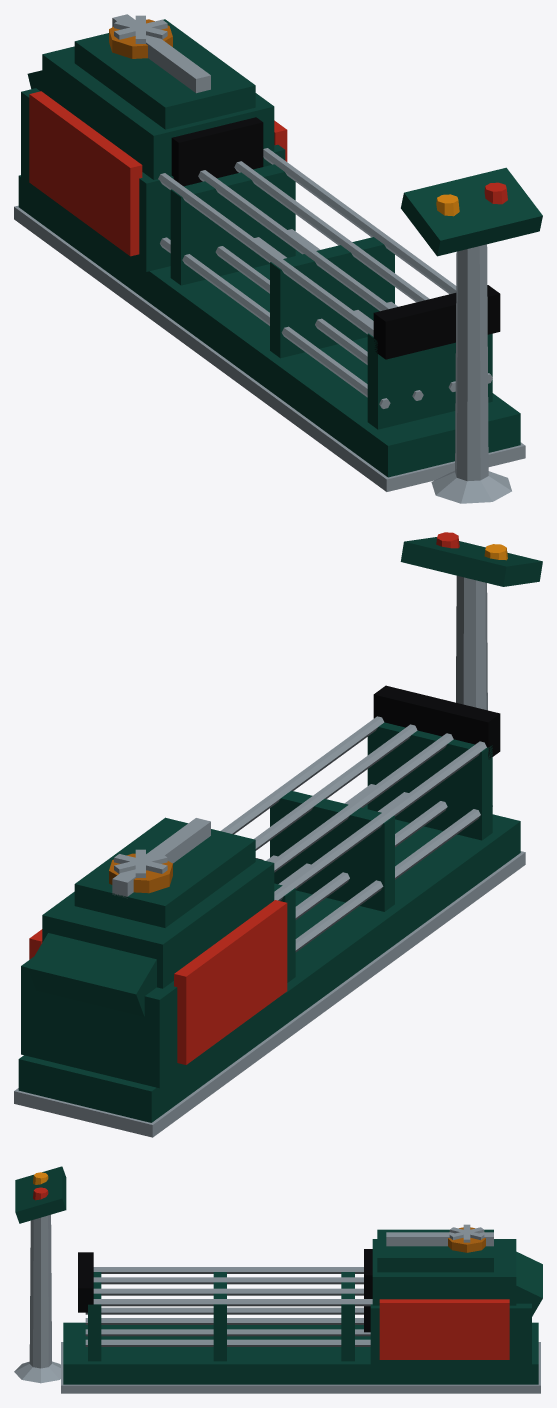
Rendered from cozy_bowling_ball_return.obj.
The picture shows the model from 3 angles, top to bottom: view 1: azimuth 30°, elevation 25°; view 2: azimuth 150°, elevation 25°; view 3: azimuth 270°, elevation 25°; orthographic projection. The views are drawn at different scales.
Parts seen in each view (by area): view 1: BallReturn_Mesh; view 2: BallReturn_Mesh; view 3: BallReturn_Mesh.
Boxes of the visible parts, x1,y1,x2,y2 form: BallReturn_Mesh: (14, 14, 542, 503); BallReturn_Mesh: (14, 532, 542, 1137); BallReturn_Mesh: (14, 1166, 542, 1393).
Size of the model in its own units: 0.52 by 0.9325 by 2.36.
